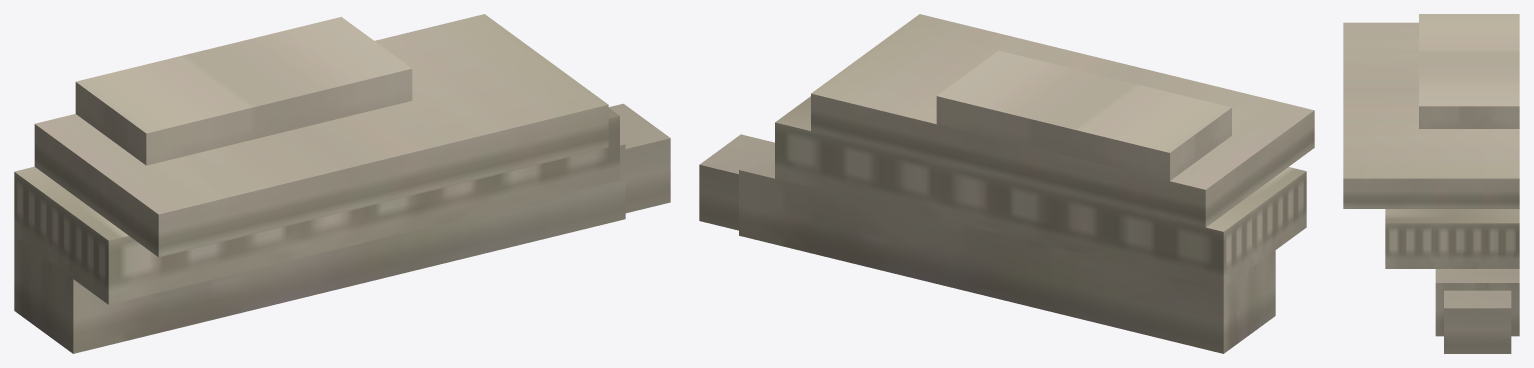
The model's file is debris_sf_terracotta_cornice.glb.
The picture shows the model from 3 angles, left to right: view 1: azimuth 30°, elevation 25°; view 2: azimuth 150°, elevation 25°; view 3: azimuth 270°, elevation 25°; orthographic projection. The views are drawn at different scales.
Parts seen in each view (by area): view 1: debris_sf_terracotta_cornice; view 2: debris_sf_terracotta_cornice; view 3: debris_sf_terracotta_cornice.
Boxes of the visible parts, bbox=[...] form: debris_sf_terracotta_cornice: bbox=[14, 14, 670, 353]; debris_sf_terracotta_cornice: bbox=[699, 14, 1314, 353]; debris_sf_terracotta_cornice: bbox=[1343, 14, 1519, 353].
Bounding box in the file's own units: 2.95 × 1 × 1.05.
Materials: 1 (1 with a texture image).
